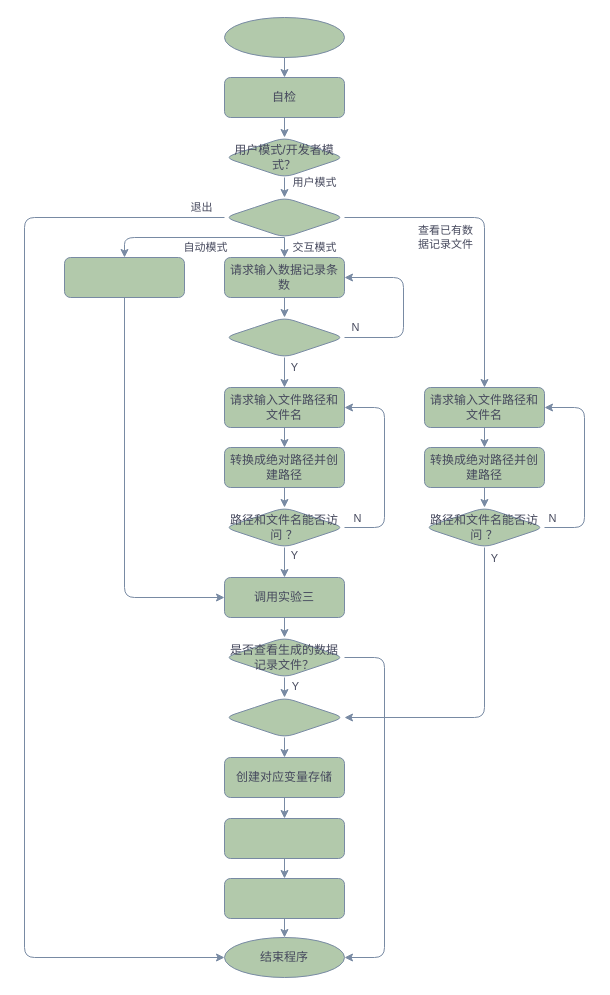
Image size: 610x995. Some labels were removed from this diagram. The shapes that lost their labels are listed below. From the top down, each one's centre as x and y in pixels, then its label:
point 284,37: 开始运行
point 284,217: 自动模式/交互模式/查看已有数据记录文件/ 退出？
point 124,277: 按照数据记录文件的限制参数输出
point 284,337: 数据记录条数是否合法 ?
point 284,717: 选择二维数组/结构体数组/指针数组/链表存储？
point 284,838: 排序
point 284,898: 显示在屏幕上
